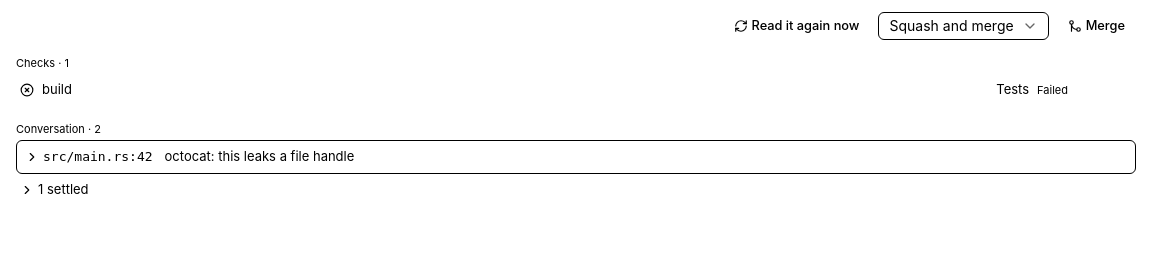
Test: PullRequestReviewView › keeps a settled conversation out of the way until it is asked for
The width and height of the screenshot is (1152, 257).
Check: the text "octocat: this leaks a file handle" is shown, box 165,148 -> 354,164
Check: the text "already dealt with" is not shown
Step 1. Click the button "1 settled" → click(63, 189), box 16,178 -> 1136,202
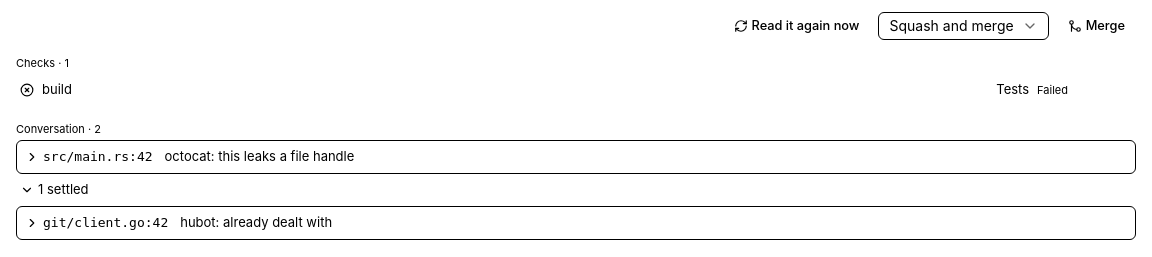
Check: the text "hubot: already dealt with" is shown, box 180,214 -> 332,230
